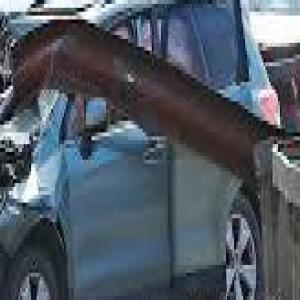critical: (0, 0, 284, 300)
